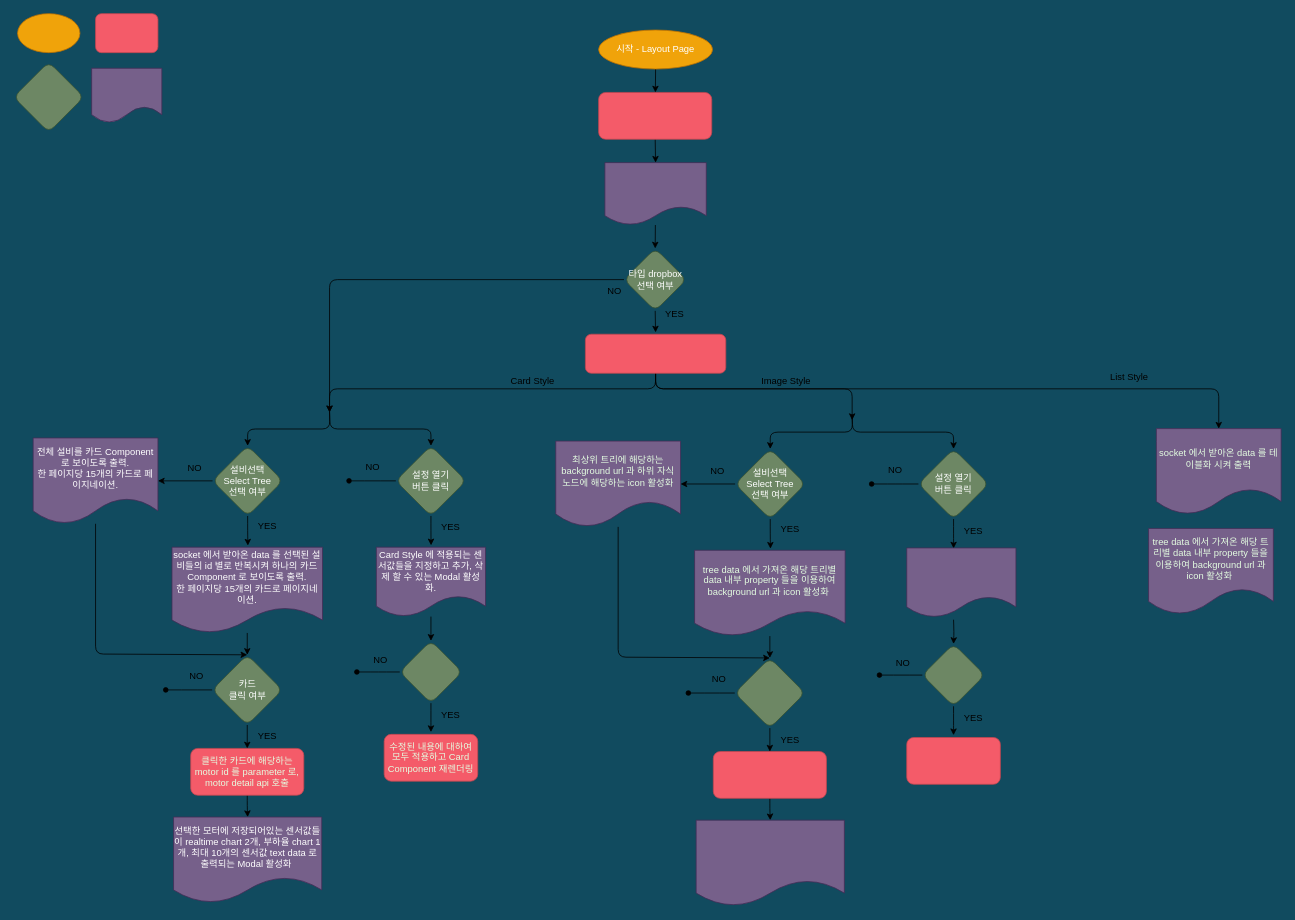
The diagram is 1295 pixels wide and 920 high, and some of its shapes have lost their labels. The shapes that lost their labels are listed below. From the top down, each one's box as (x1, y1, x2, y2) in pixels, then its label:
(17, 13, 80, 53): 시작 끝
(95, 13, 158, 53): 처리 작업 명시
(13, 61, 84, 132): 의사결정 비교 및 판단
(91, 67, 162, 123): 표시 화면으로 결과 출력
(598, 92, 712, 139): 계정의 token 을 기반으로 권한에 맞는 data 호출
(604, 162, 706, 225): 등록된 설비들의 모터 가동 상태 표기 [가동 - 정지 - 끊김]
(585, 333, 726, 373): Card Style, Image Style, List Style 선택에 따른 조건부 컴포넌트 호출
(399, 640, 462, 703): Modal 닫기 여부
